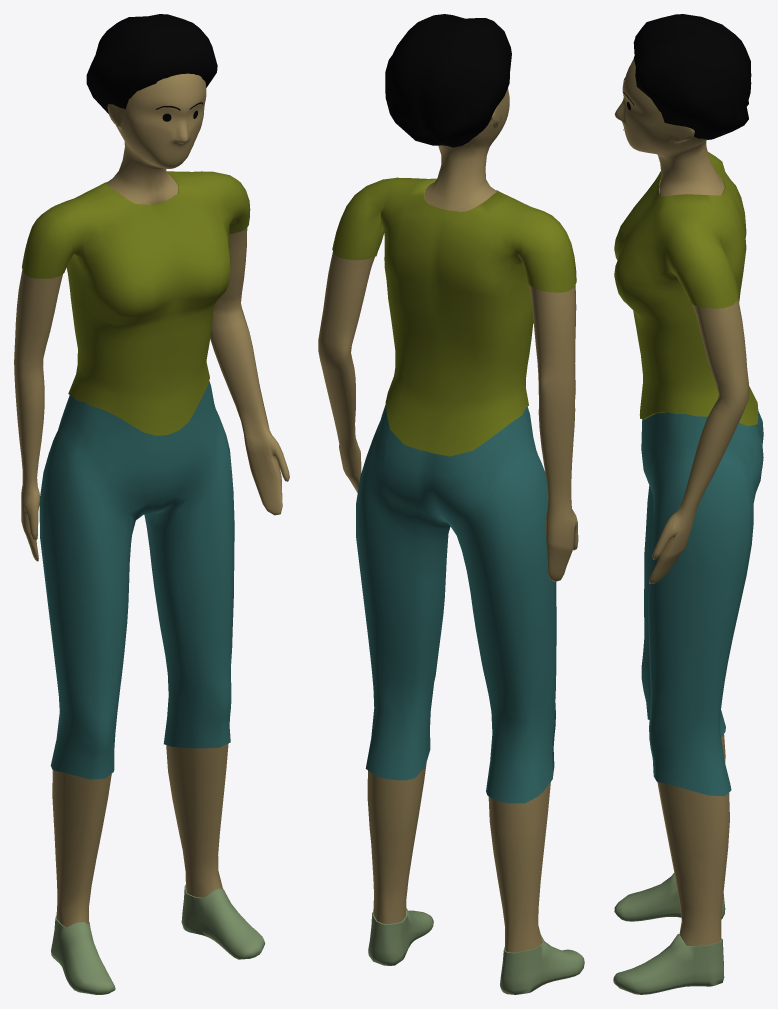
File: Female_Gazing.glb
3 renders of one model, left to right at view 1: azimuth 30°, elevation 25°; view 2: azimuth 150°, elevation 25°; view 3: azimuth 270°, elevation 25°, orthographic.
Parts seen in each view (by area): view 1: Female-Talking-2; view 2: Female-Talking-2; view 3: Female-Talking-2.
Boxes of the visible parts, bbox=[...] form: Female-Talking-2: bbox=[14, 14, 289, 994]; Female-Talking-2: bbox=[318, 14, 584, 994]; Female-Talking-2: bbox=[613, 14, 763, 994].
Bounding box in the file's own units: 0.4705 × 1.69 × 0.247.
